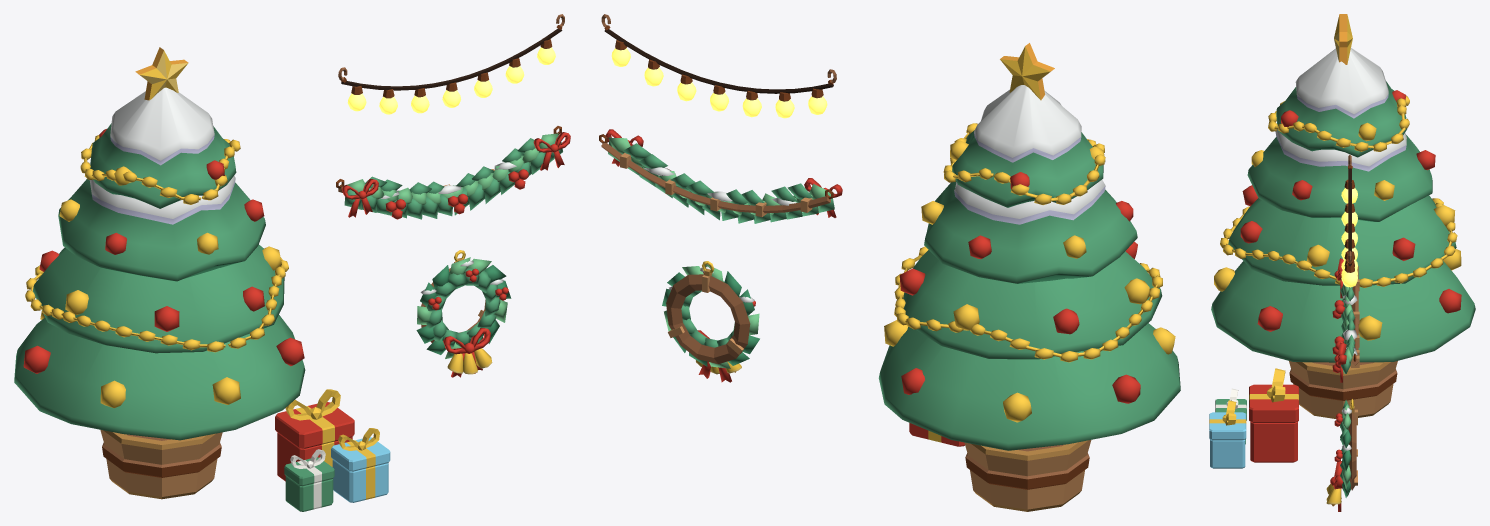
The model's file is HolidayDecor.glb.
The picture shows the model from 3 angles, left to right: view 1: azimuth 30°, elevation 25°; view 2: azimuth 150°, elevation 25°; view 3: azimuth 270°, elevation 25°; orthographic projection. The views are drawn at different scales.
Parts seen in each view (by area): view 1: ChristmasSpruce, WrappedGifts, PineGarland, BellWreath, StringLights; view 2: ChristmasSpruce, PineGarland, BellWreath, StringLights; view 3: ChristmasSpruce, WrappedGifts, PineGarland, BellWreath, StringLights.
Boxes of the visible parts, box(x1,y1,x2,y2) form: ChristmasSpruce: box(14, 47, 305, 499); WrappedGifts: box(275, 389, 390, 511); PineGarland: box(336, 126, 570, 219); BellWreath: box(416, 250, 511, 377); StringLights: box(338, 14, 564, 114); ChristmasSpruce: box(878, 43, 1180, 511); PineGarland: box(599, 129, 842, 223); BellWreath: box(662, 261, 759, 382); StringLights: box(601, 14, 836, 118); ChristmasSpruce: box(1211, 14, 1475, 419); WrappedGifts: box(1209, 368, 1298, 468); PineGarland: box(1332, 258, 1359, 382); BellWreath: box(1326, 399, 1357, 511); StringLights: box(1341, 155, 1357, 287).
Bounding box in the file's own units: 4.7 × 3.64 × 2.27.
Materials: 2 (2 with a texture image).
